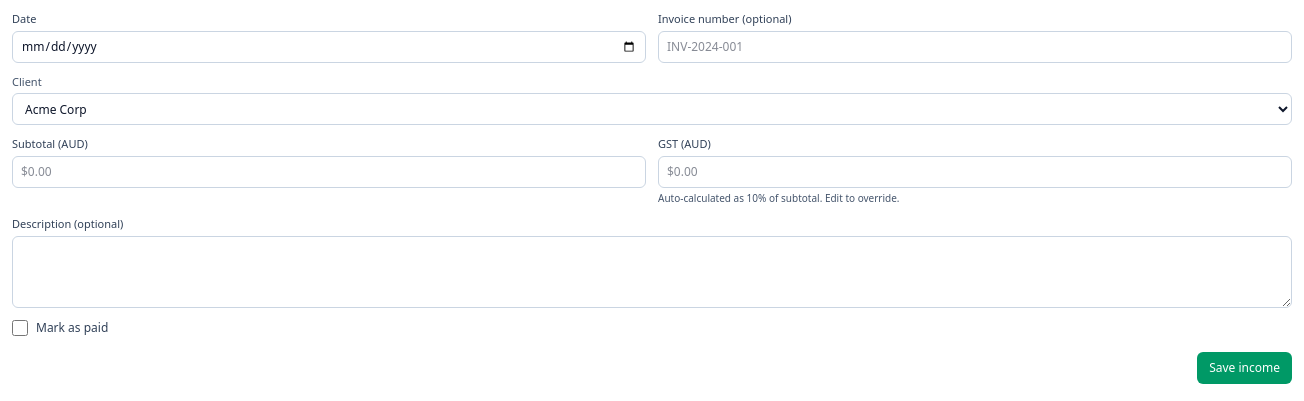
Scenario: IncomeForm › auto-calculates GST as 10% of subtotal
Type "1000" into the field labelled "Subtotal (AUD)".
click(329, 172); type("1000")  # box [12,156,646,188]
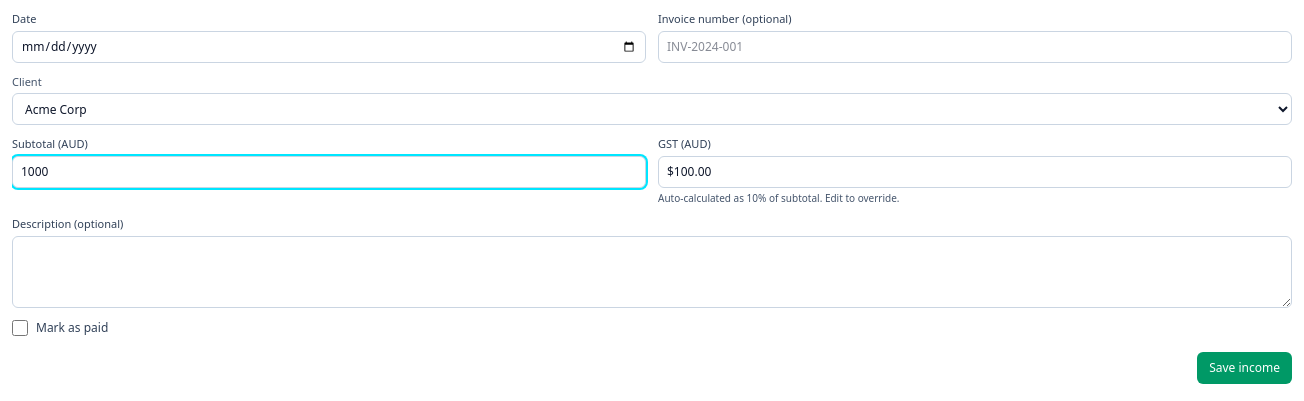
Check: the field labelled "GST (AUD)" holds "$100.00", box [658,156,1292,188]
